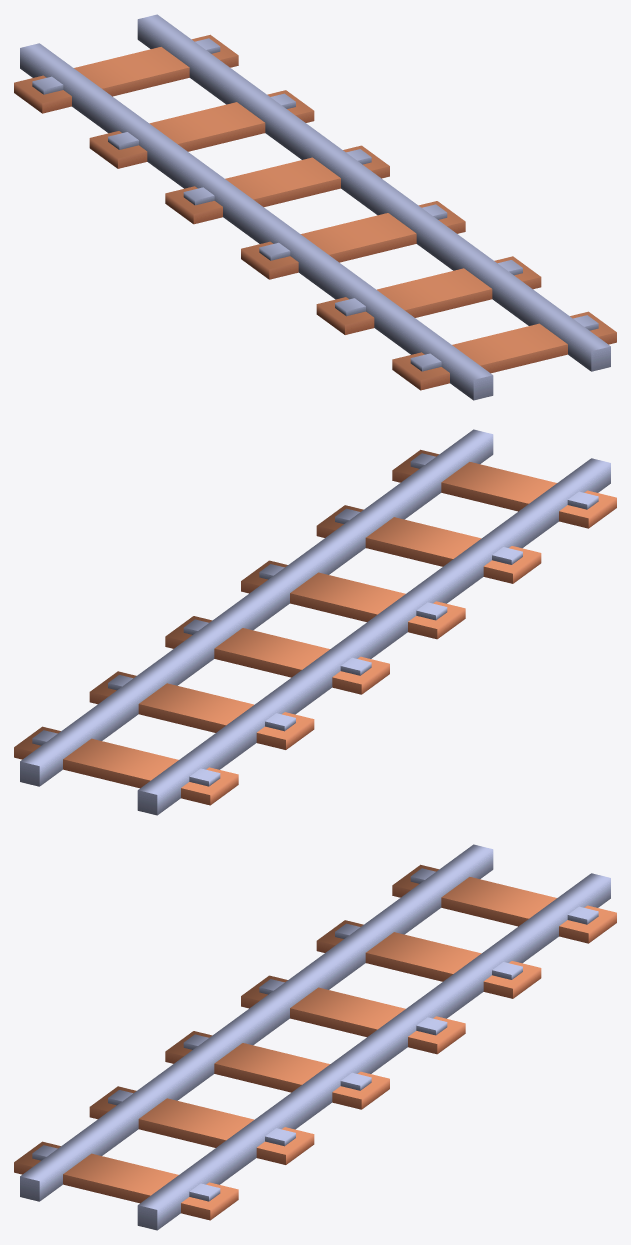
File: train-railroad-straight.glb
3 views of the same model, one above another, from view 1: azimuth 30°, elevation 25°; view 2: azimuth 150°, elevation 25°; view 3: azimuth 330°, elevation 25° (orthographic).
Parts seen in each view (by area): view 1: railroad-straight; view 2: railroad-straight; view 3: railroad-straight.
Boxes of the visible parts, x1,y1,x2,y2 form: railroad-straight: [14, 14, 616, 400]; railroad-straight: [14, 429, 616, 815]; railroad-straight: [14, 844, 616, 1230].
Bounding box in the file's own units: 1 × 0.1001 × 4.
1 material, 1 textured.
